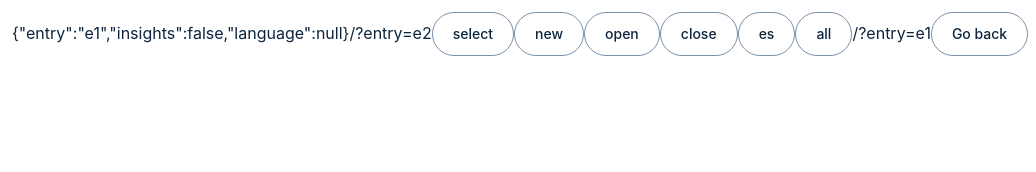
useWorkspaceParams › sets and clears the language
Click the button "es" at (766, 34), box [738,12,795,56]
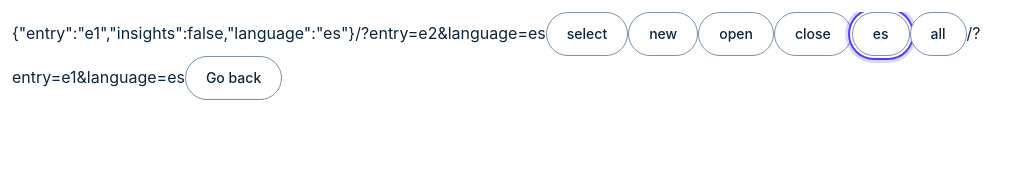
Result: the text named "Location" reads "/?entry=e1&language=es" at [12,23,980,87]
Click the button "all" at (938, 34), box [910,12,966,56]
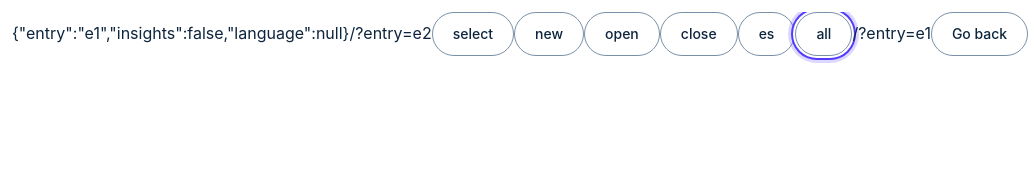
Result: the text named "Location" reads "/?entry=e1" at [852,23,931,43]
